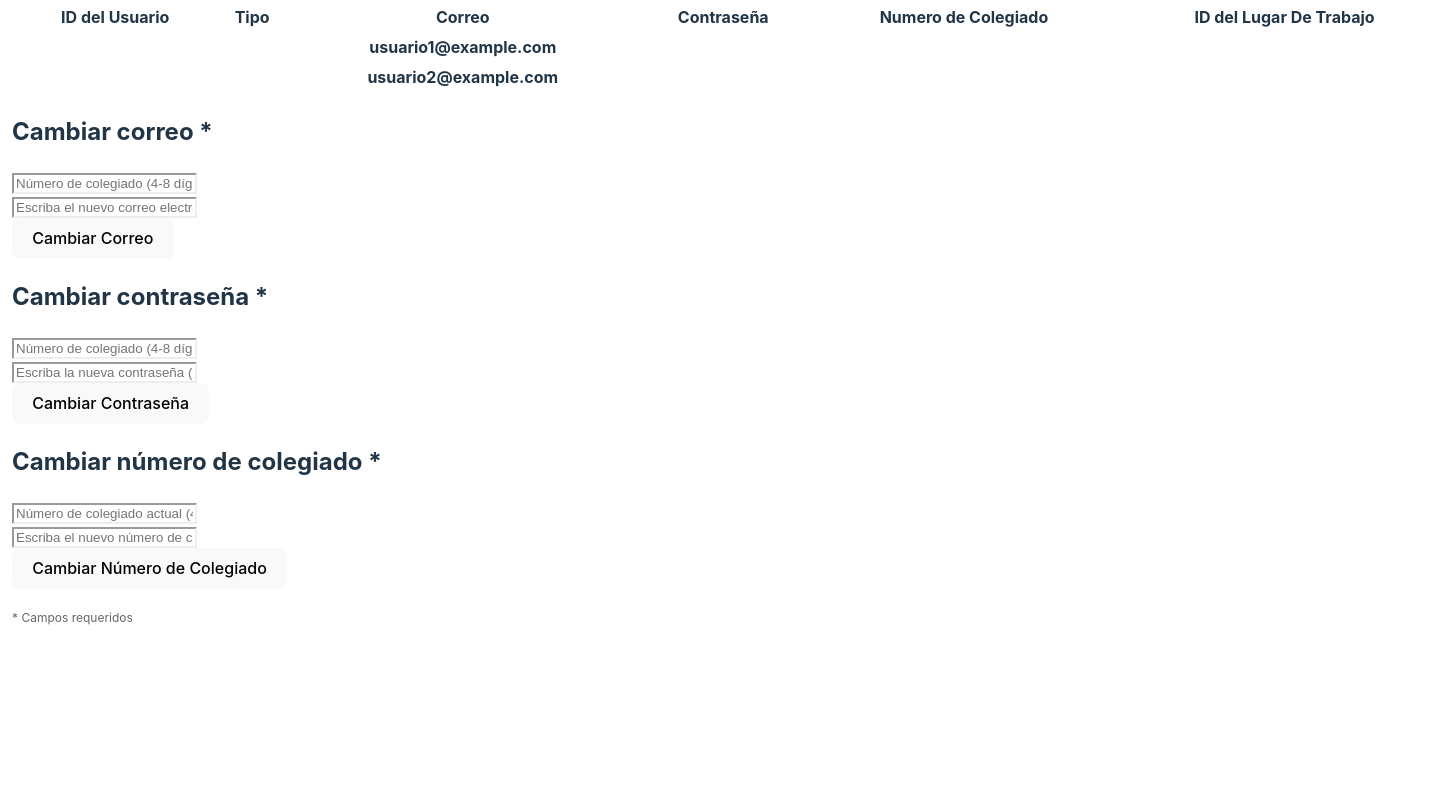
Scenario: UsuarioUpdate_mantenimiento › Validación de número de colegiado › debe mostrar error cuando el número de colegiado es inválido
Type "123" into the 1st field with placeholder "Número de colegiado (4-8 dígitos)".
click(104, 183); type("123")  # box [12,173,197,194]
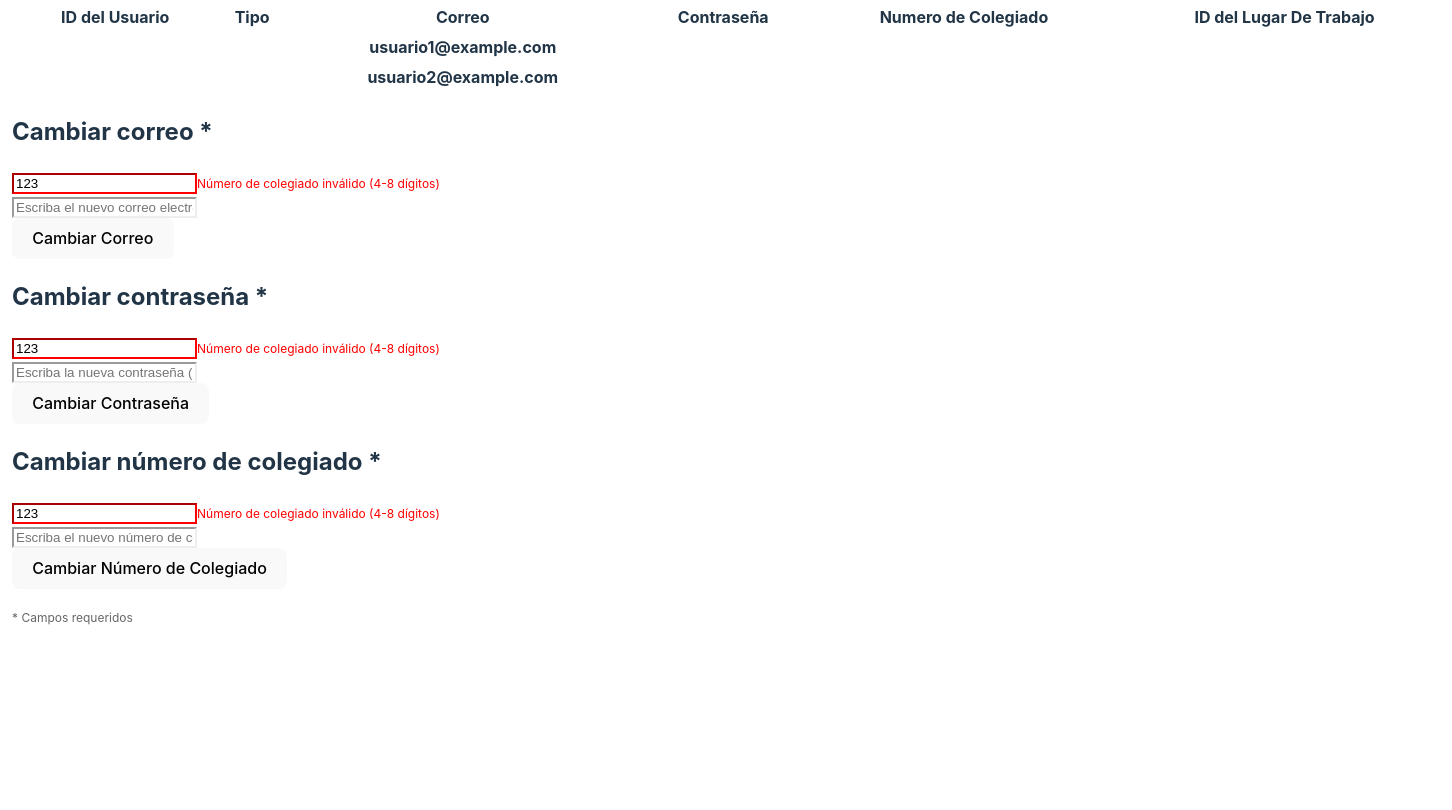
Result: the 1st text "Número de colegiado inválido (4-8 dígitos)" is shown at [197,176,440,191]
